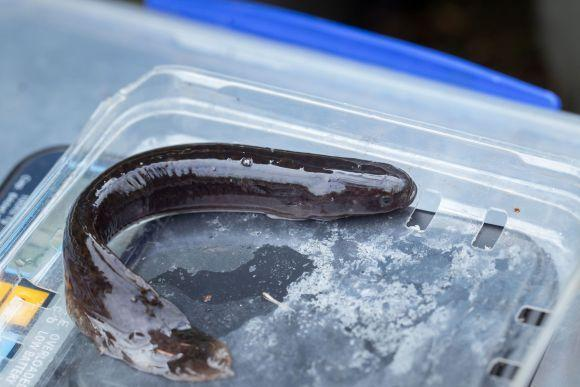Mudfish: (60, 134, 417, 384)
